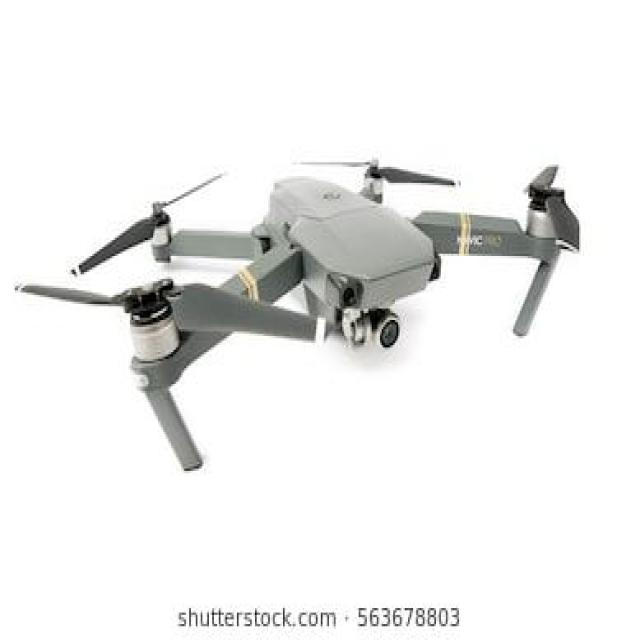drone: (9, 121, 603, 454)
